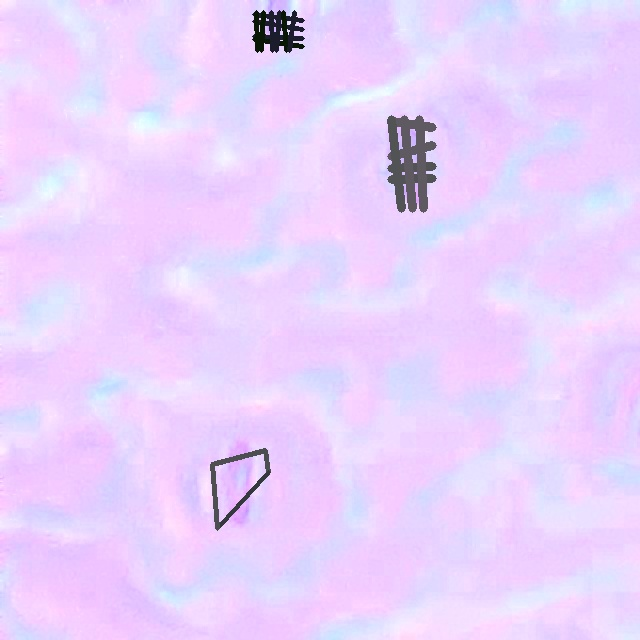open: (210, 448, 270, 529), (387, 115, 436, 212), (252, 10, 304, 52)
